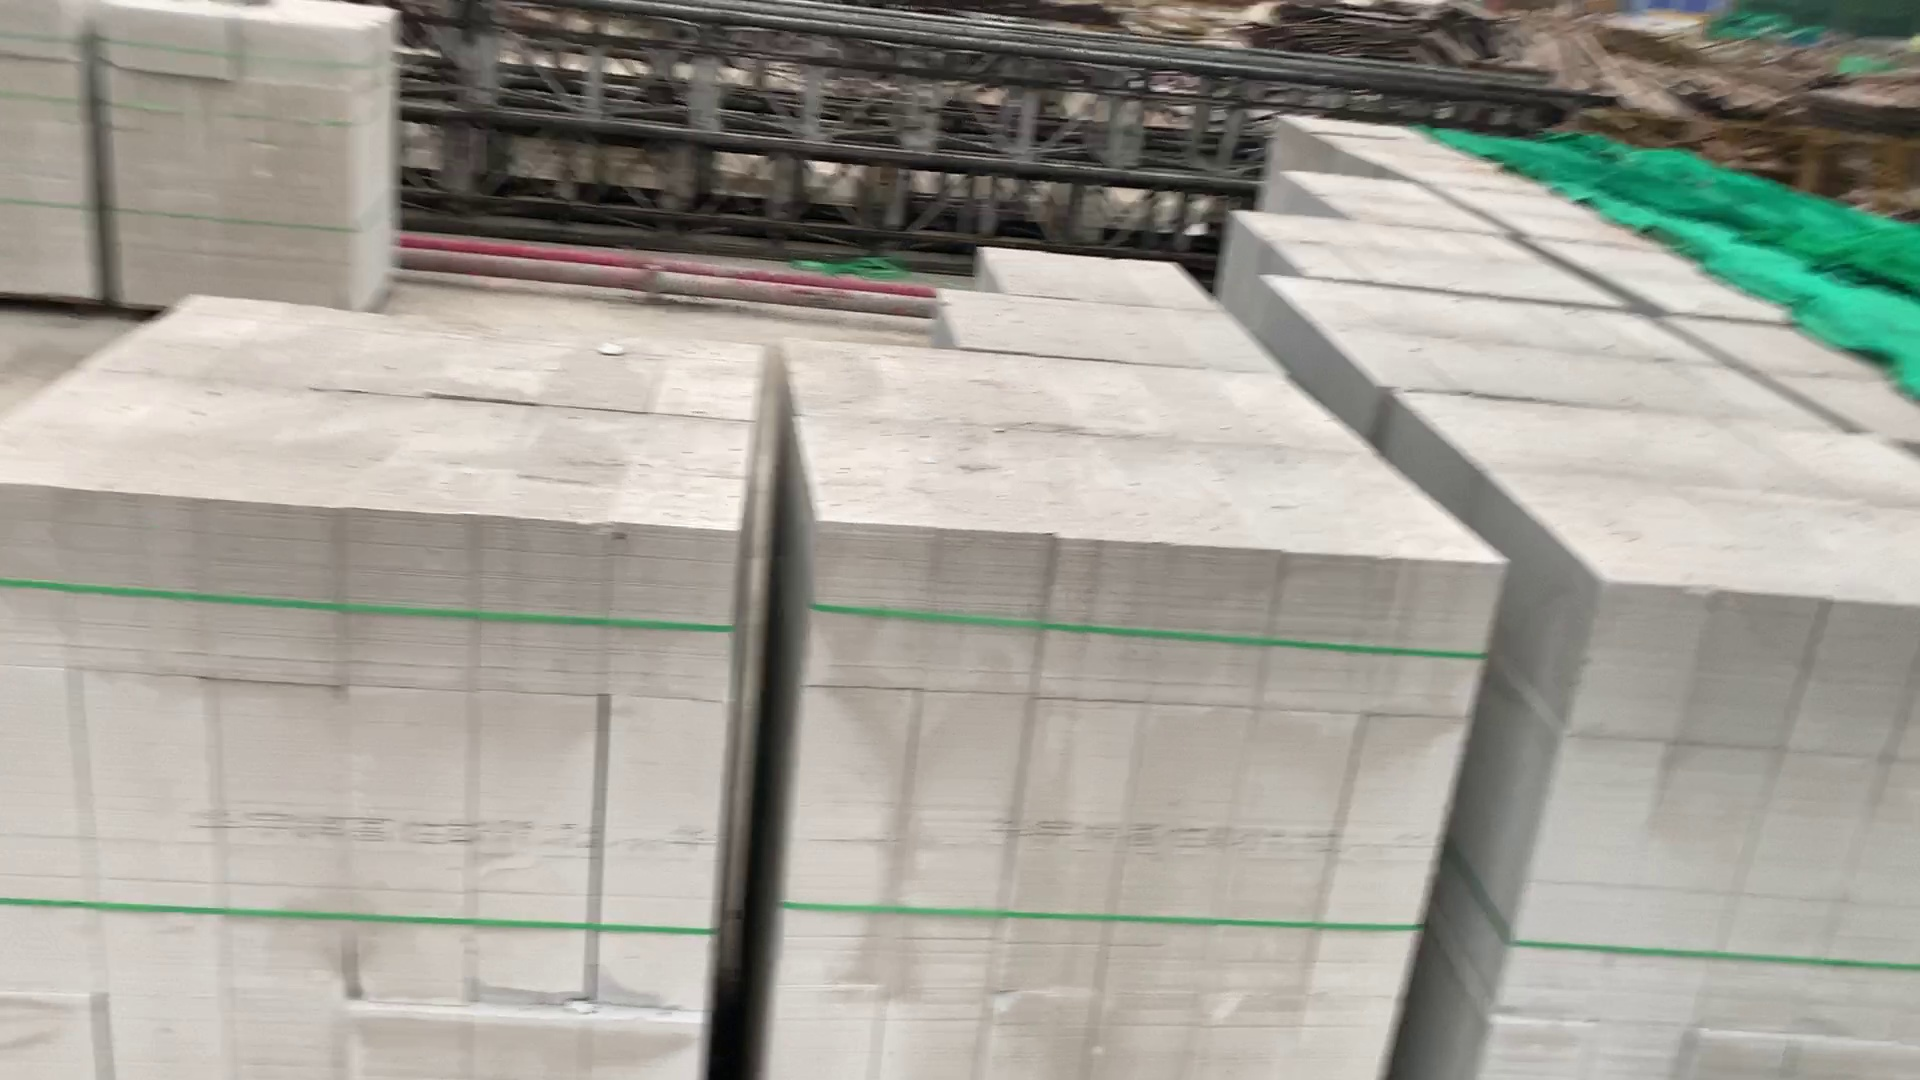brickwork: (4, 299, 720, 1080), (785, 345, 1502, 1080), (1404, 392, 1920, 1079), (88, 3, 396, 309), (1265, 280, 1846, 435), (949, 248, 1279, 369), (1226, 210, 1619, 305), (1669, 314, 1920, 436), (3, 4, 94, 305), (1535, 243, 1793, 318), (1402, 164, 1619, 237), (1287, 167, 1499, 233), (1283, 117, 1493, 165)
